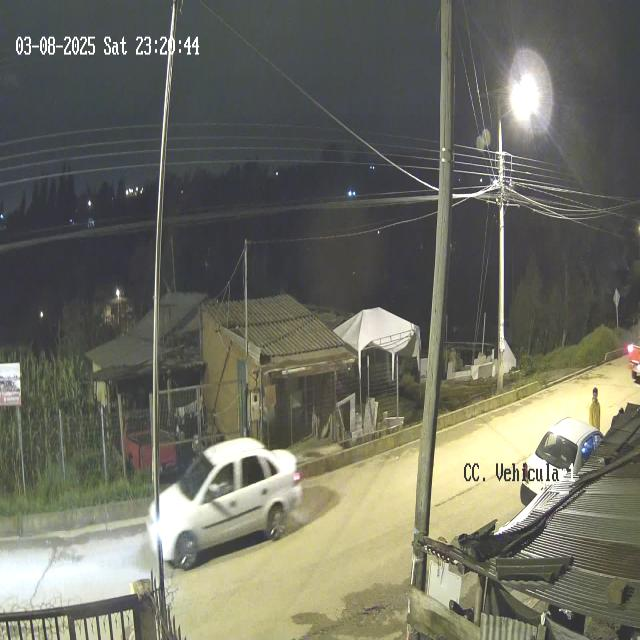SED: (150, 435, 300, 565)
